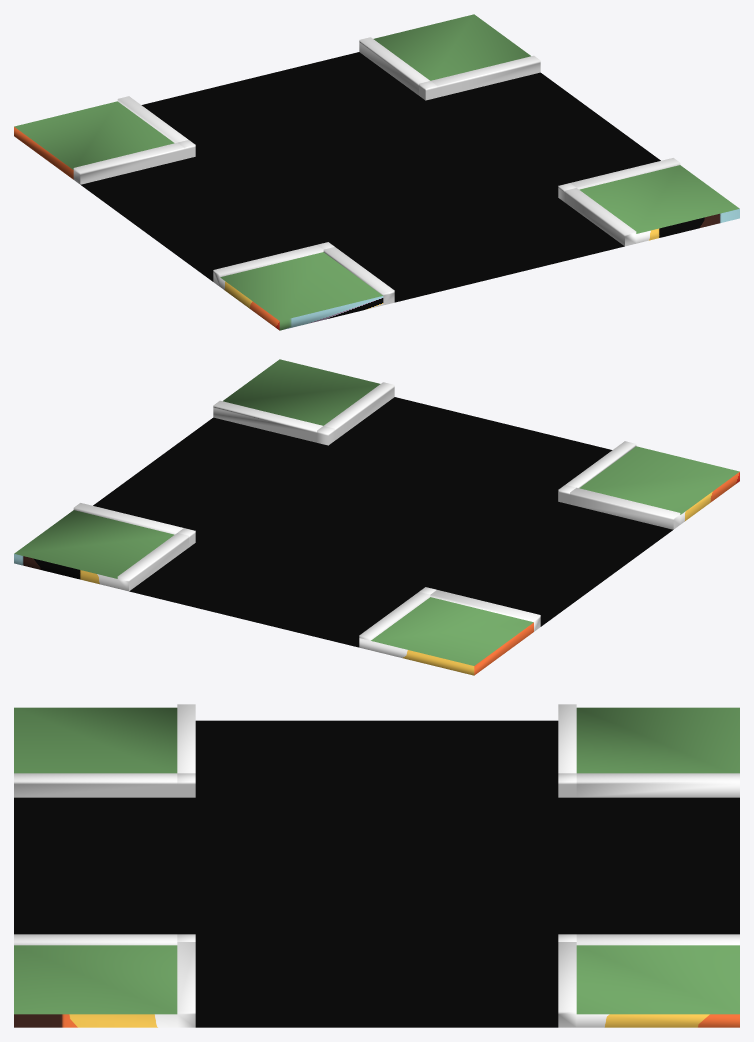
Rendered from Cross.glb.
The picture shows the model from 3 angles, top to bottom: view 1: azimuth 30°, elevation 25°; view 2: azimuth 150°, elevation 25°; view 3: azimuth 270°, elevation 25°; orthographic projection. The views are drawn at different scales.
Visible parts, largest first — view 1: Cross; view 2: Cross; view 3: Cross.
Part boxes in pixels (x1=…): Cross: x1=14, y1=14, x2=739, y2=330; Cross: x1=14, y1=359, x2=739, y2=675; Cross: x1=14, y1=704, x2=739, y2=1027.
Bounding box in the file's own units: 10 × 0.25 × 10.
Materials: 1 (1 with a texture image).
